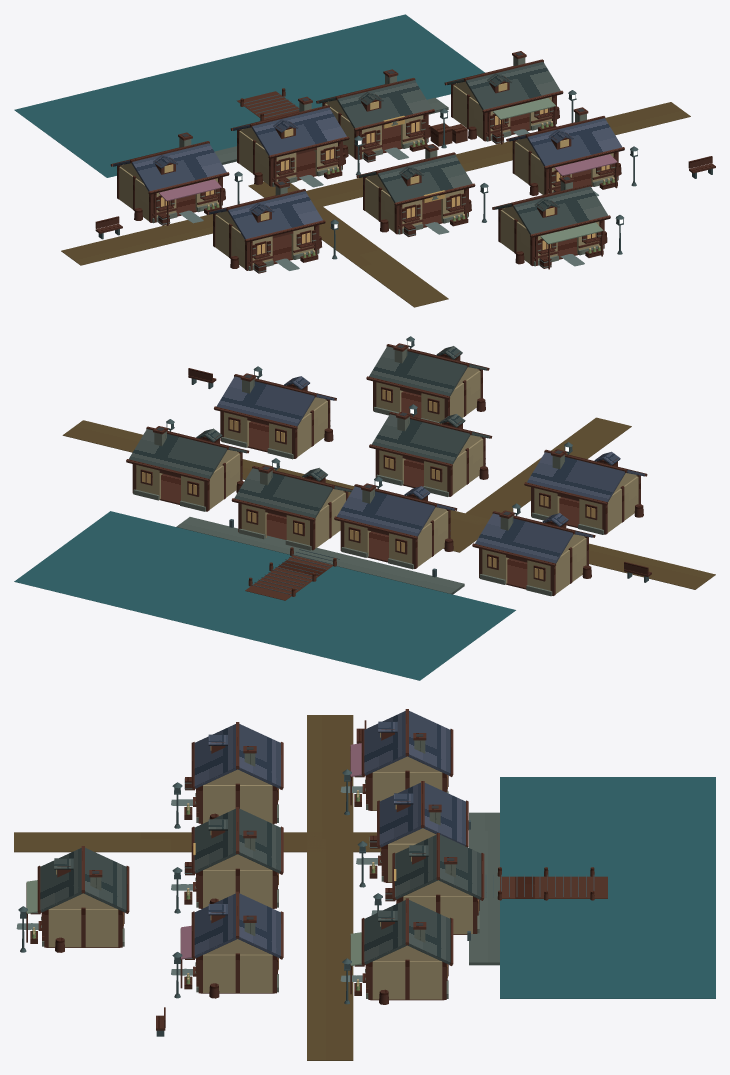
The model's file is waterfront.glb.
3 renders of one model, top to bottom at view 1: azimuth 30°, elevation 25°; view 2: azimuth 150°, elevation 25°; view 3: azimuth 270°, elevation 25°, orthographic. The views are drawn at different scales.
Parts seen in each view (by area): view 1: Water, Street, _MeshInstance3D_1363, _MeshInstance3D_1280, _MeshInstance3D_1339, _MeshInstance3D_1105, _MeshInstance3D_1046, _MeshInstance3D_930, _MeshInstance3D_1164, _MeshInstance3D_988, _MeshInstance3D_1222, Pier (+15 smaller); view 2: Water, Street, _MeshInstance3D_1363, Quay, _MeshInstance3D_1618, _MeshInstance3D_1686, _MeshInstance3D_1793, RoofSlope, _MeshInstance3D_1723, _MeshInstance3D_1653, _MeshInstance3D_1585, _MeshInstance3D_1758 (+13 smaller); view 3: Water, Street, _MeshInstance3D_1363, Quay, _MeshInstance3D_1632, _MeshInstance3D_1772, _MeshInstance3D_1737, Pier, _MeshInstance3D_1667, _MeshInstance3D_1700, _MeshInstance3D_1758, _MeshInstance3D_1723 (+19 smaller).
Part boxes in pixels (x1,y1,x2,y2): Water: (14,14,484,177); Street: (61,102,690,265); _MeshInstance3D_1363: (248,182,448,307); _MeshInstance3D_1280: (527,118,622,166); _MeshInstance3D_1339: (513,186,608,234); _MeshInstance3D_1105: (466,62,560,109); _MeshInstance3D_1046: (131,143,226,191); _MeshInstance3D_930: (252,107,346,155); _MeshInstance3D_1164: (228,191,322,239); _MeshInstance3D_988: (337,80,431,128); _MeshInstance3D_1222: (377,154,472,202); Pier: (237,91,299,120); Water: (14,511,515,680); Street: (62,420,715,589); _MeshInstance3D_1363: (443,417,631,552); Quay: (176,517,464,594); _MeshInstance3D_1618: (475,513,573,563); _MeshInstance3D_1686: (527,452,625,502); _MeshInstance3D_1793: (369,346,467,396); RoofSlope: (337,486,435,536); _MeshInstance3D_1723: (371,414,470,464); _MeshInstance3D_1653: (129,429,227,478); _MeshInstance3D_1585: (234,468,332,518); _MeshInstance3D_1758: (216,376,314,426); Water: (500,777,715,998); Street: (307,715,353,1060); _MeshInstance3D_1363: (14,832,380,852); Quay: (469,812,499,965); _MeshInstance3D_1632: (372,961,442,999); _MeshInstance3D_1772: (48,909,118,947); _MeshInstance3D_1737: (203,954,272,992); Pier: (500,876,607,898); _MeshInstance3D_1667: (203,785,272,823); _MeshInstance3D_1700: (203,870,272,908); _MeshInstance3D_1758: (238,893,280,957); _MeshInstance3D_1723: (238,808,280,873).
Size of the model in its own units: 53 by 5.17 by 45.5.
91 materials, 9 textured.
